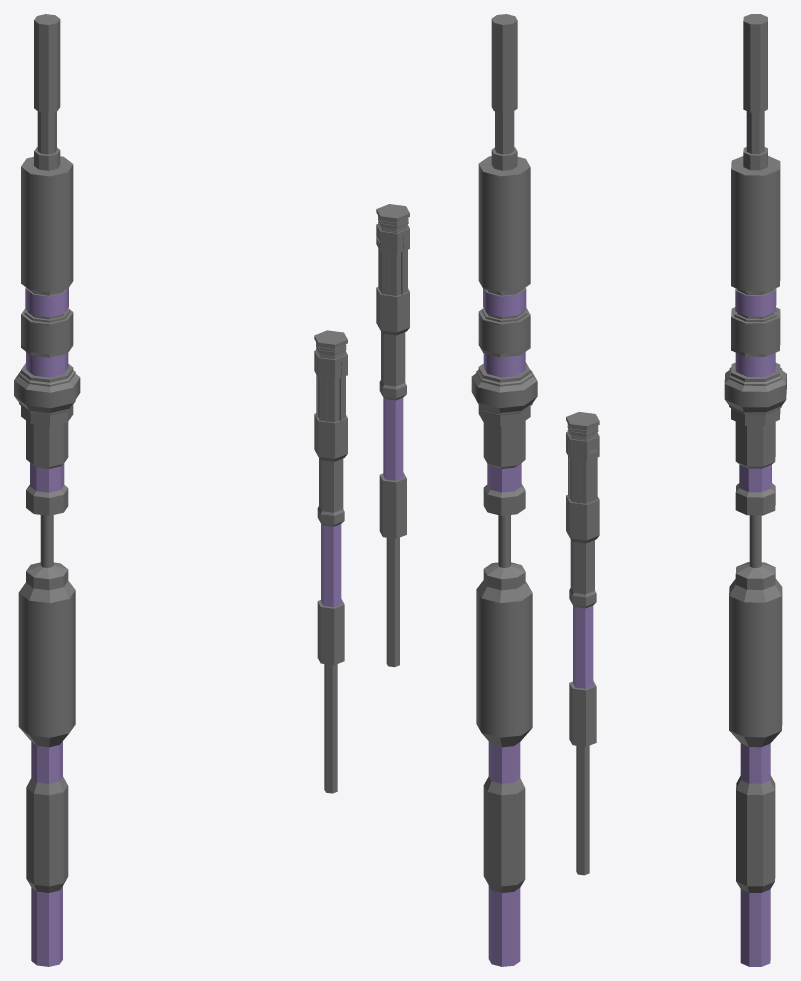
File: Pillars_Fluid_Megastructure.fbx
The picture shows the model from 3 angles, left to right: view 1: azimuth 30°, elevation 25°; view 2: azimuth 150°, elevation 25°; view 3: azimuth 270°, elevation 25°; orthographic projection.
Parts seen in each view (by area): view 1: Cylinder050, Cylinder046; view 2: Cylinder050, Cylinder046; view 3: Cylinder050, Cylinder046.
Boxes of the visible parts, x1,y1,x2,y2 form: Cylinder050: [14, 14, 80, 966]; Cylinder046: [314, 330, 347, 793]; Cylinder050: [471, 14, 537, 966]; Cylinder046: [376, 204, 409, 667]; Cylinder050: [724, 14, 786, 966]; Cylinder046: [566, 412, 599, 875].
Bounding box in the file's own units: 2326 × 8736 × 1856.
